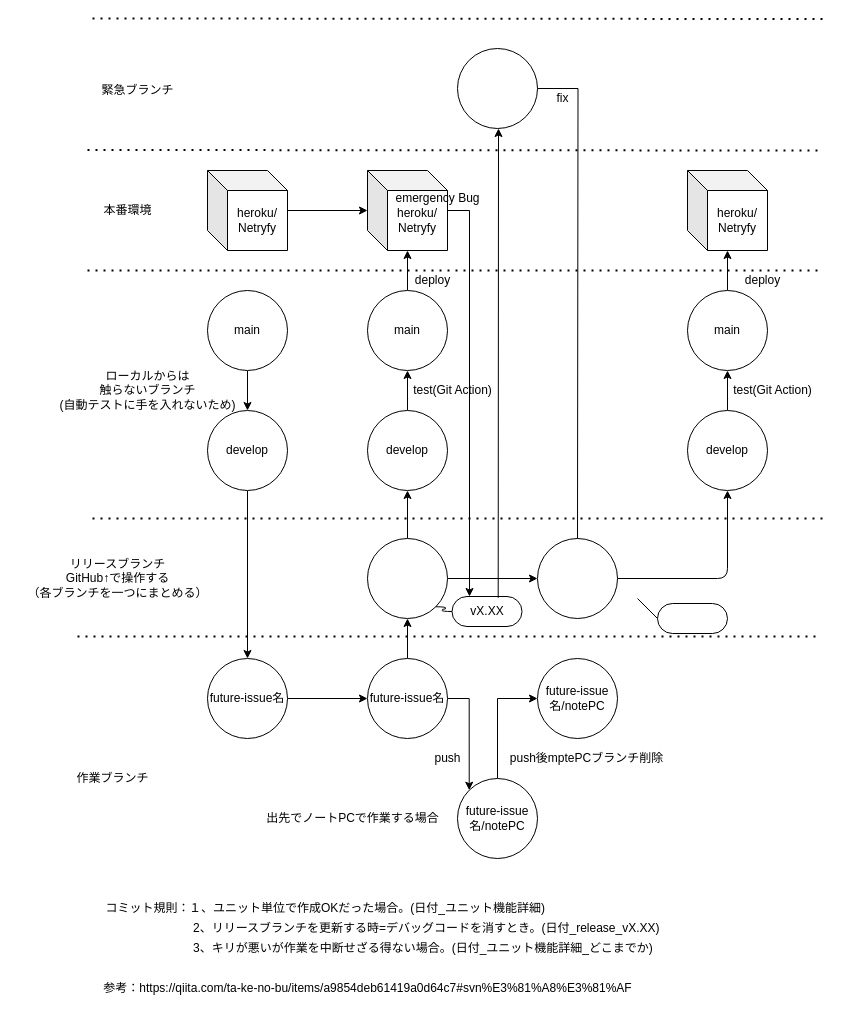
This 846x1015 diagram has some shape labels left out. The shapes that lost their labels are listed below. From the top down, each one's centre as x and y in pixels, then its label:
At (x=497, y=88): "hot-fix/ vX.XX-修正 内容".
At (x=407, y=578): "release/ vX.XX".
At (x=577, y=578): "release/ vY.YY".
At (x=692, y=618): "vY.YY".
